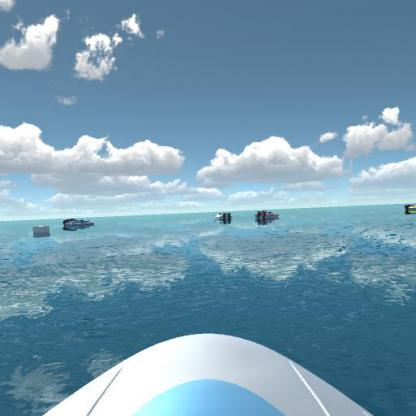usv1: (56, 214, 101, 232), (212, 209, 235, 226)
usv2: (399, 199, 415, 215)
usv3: (252, 207, 280, 223)
